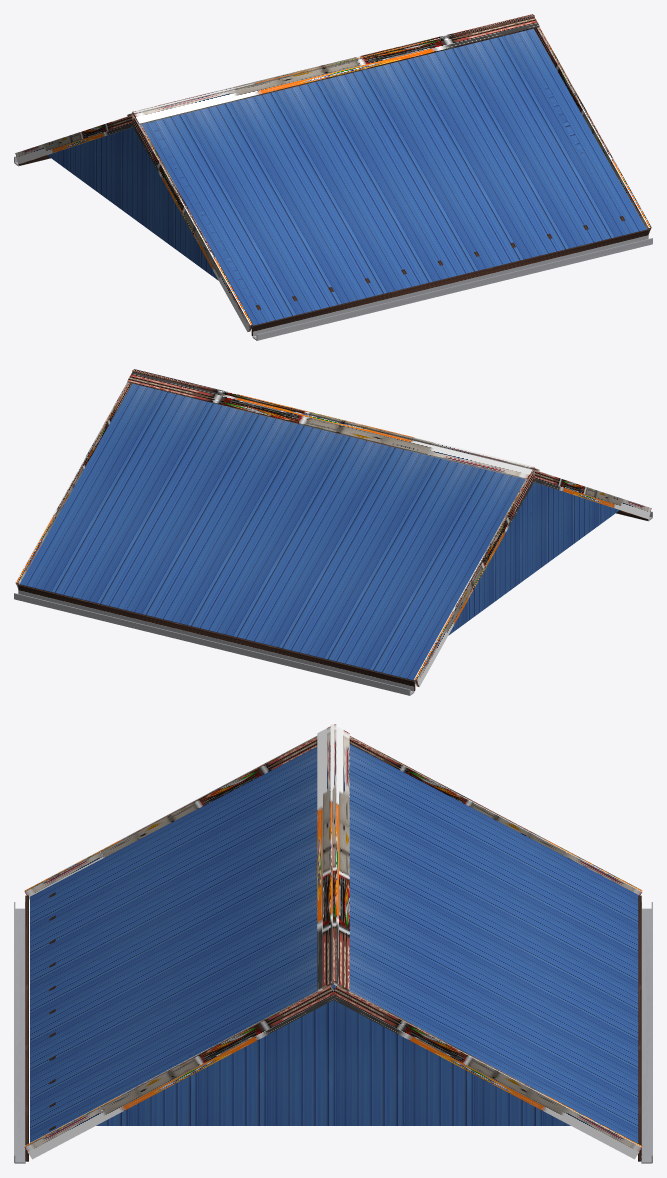
File: Roof_Gable_8x8.fbx
The picture shows the model from 3 angles, top to bottom: view 1: azimuth 30°, elevation 25°; view 2: azimuth 150°, elevation 25°; view 3: azimuth 270°, elevation 25°; orthographic projection. The views are drawn at different scales.
Parts seen in each view (by area): view 1: Roof_Gable_8x8; view 2: Roof_Gable_8x8; view 3: Roof_Gable_8x8.
Boxes of the visible parts, box(x1,y1,x2,y2) form: Roof_Gable_8x8: box(14, 14, 652, 340); Roof_Gable_8x8: box(14, 369, 652, 695); Roof_Gable_8x8: box(14, 724, 652, 1163).
Size of the model in its own units: 8.82 by 2.95 by 9.26.
